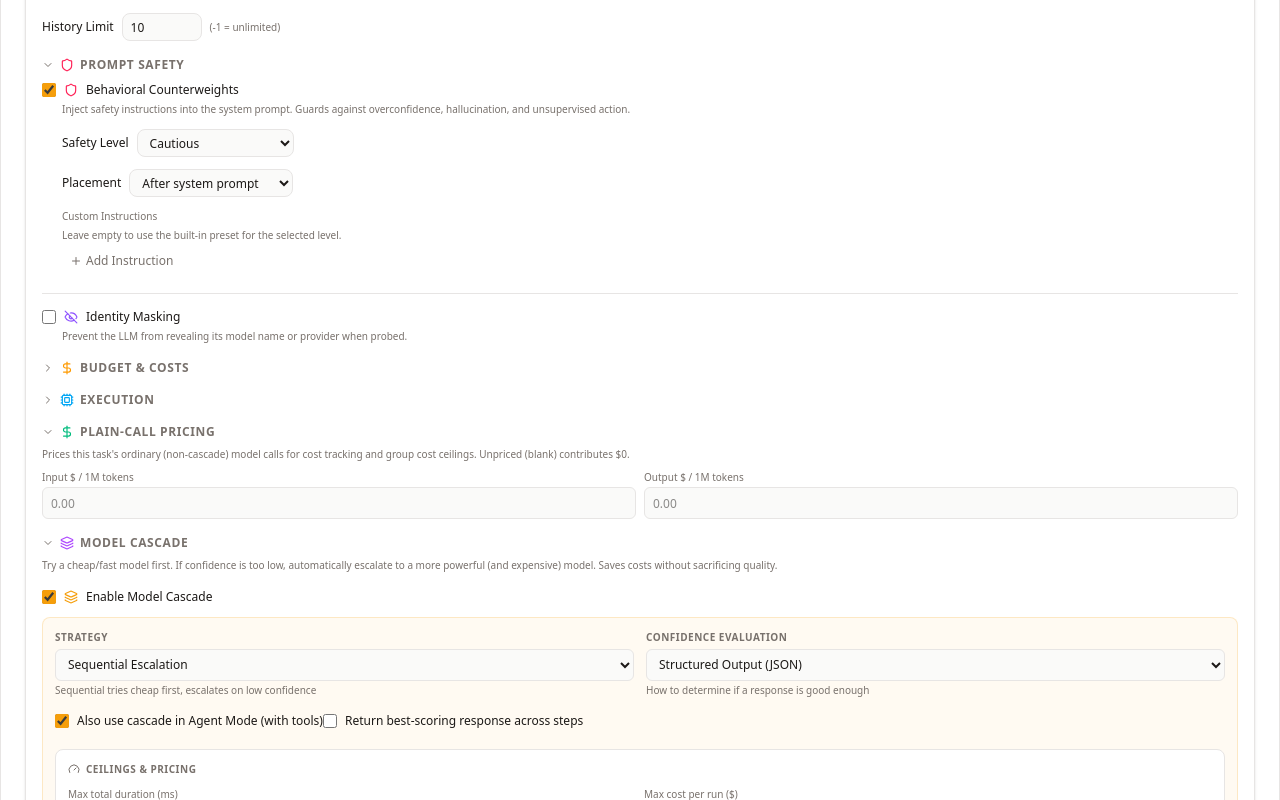
Scenario: LangChain Editor › renders tool response strategy dropdown with truncate
(page scrolled)
Click the button "Execution" at (98, 400), box [42,392,154,408]
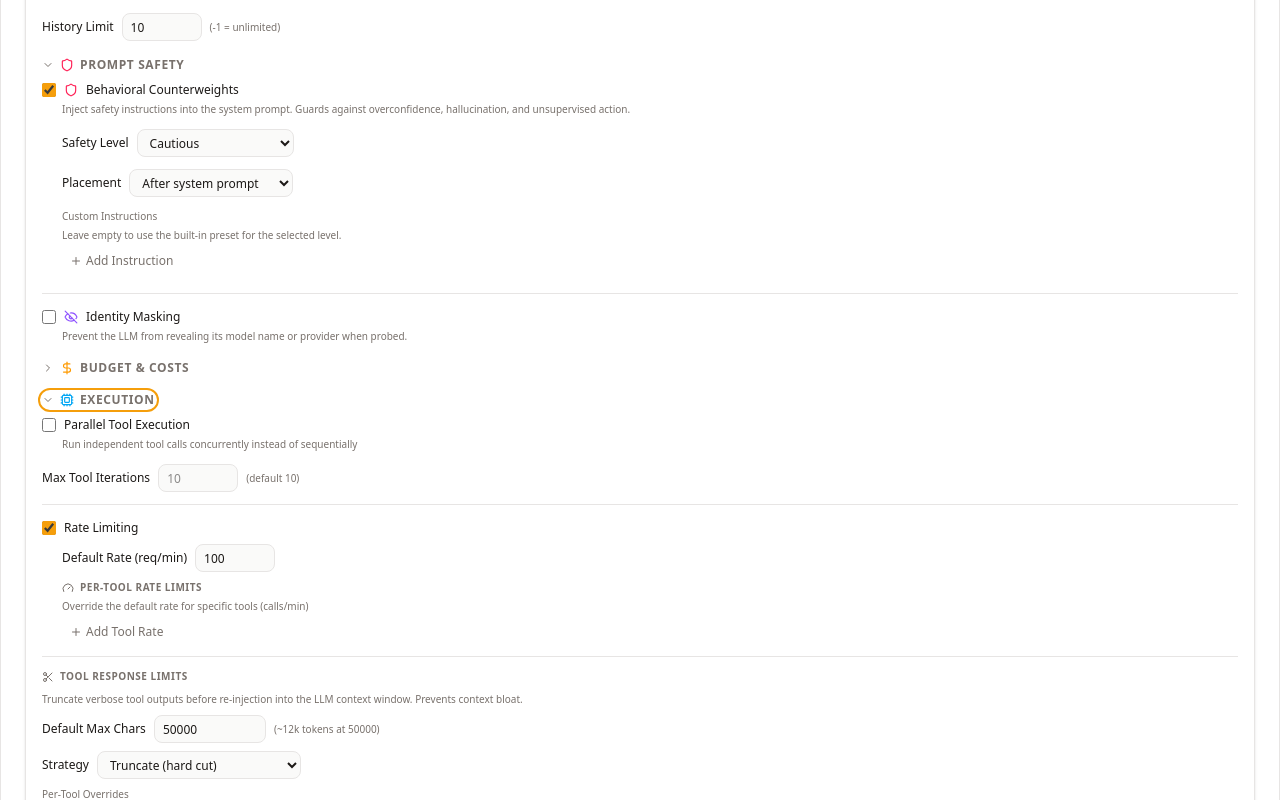
Expected: the dropdown with test id "tool-response-strategy" shows "Truncate (hard cut)", [97,751,301,779]
